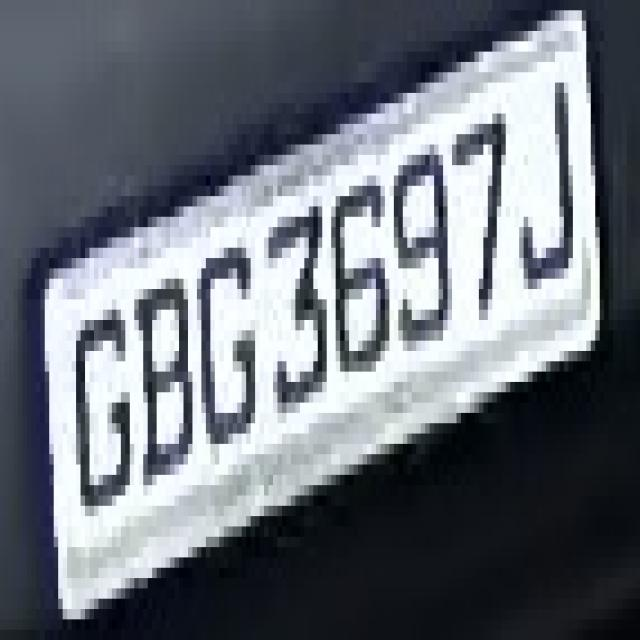3: (255, 186, 327, 444)
6: (322, 145, 394, 392)
7: (439, 104, 510, 330)
9: (385, 144, 456, 351)
B: (125, 248, 206, 506)
G: (192, 186, 268, 454), (72, 248, 134, 547)
J: (515, 83, 586, 300)
